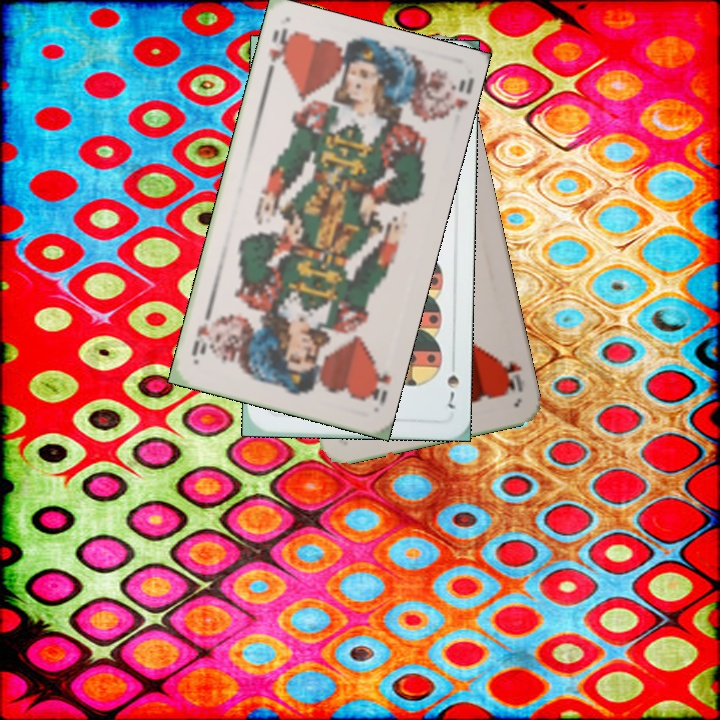HO: (263, 24, 296, 82), (362, 363, 394, 409), (496, 356, 526, 397)
S7: (443, 371, 462, 411)
